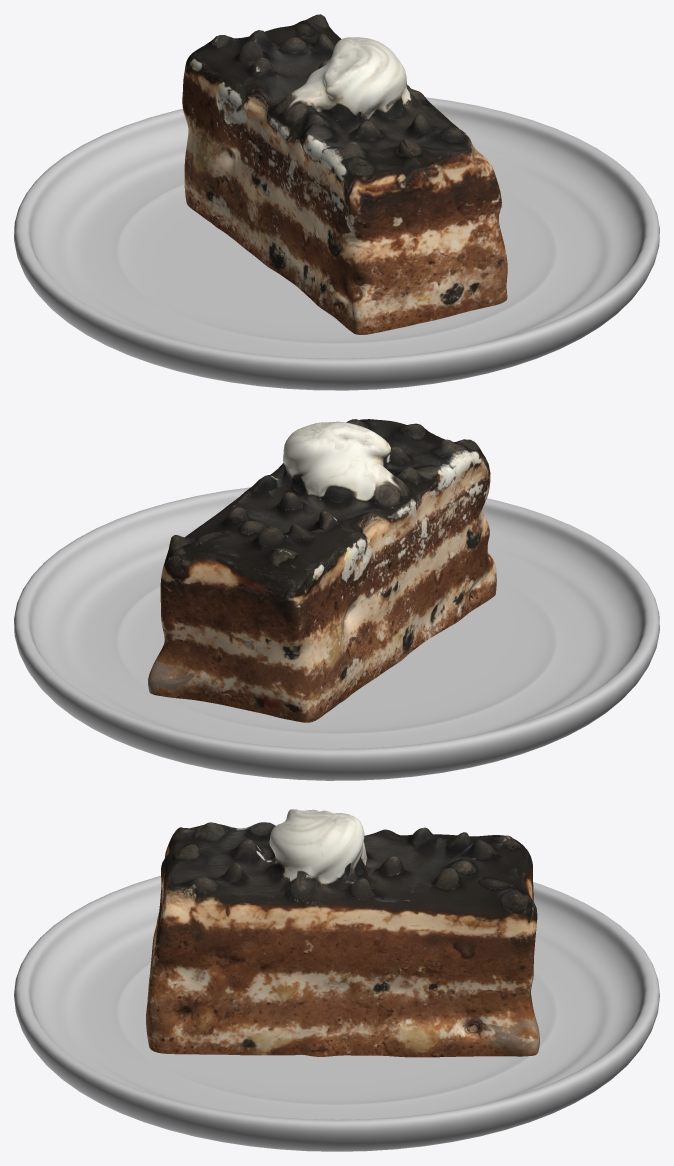
Rendered from postre.fbx.
3 views of the same model, one above another, from view 1: azimuth 30°, elevation 25°; view 2: azimuth 150°, elevation 25°; view 3: azimuth 270°, elevation 25° (orthographic).
Visible parts, largest first — view 1: Fried Noodle.002; view 2: Fried Noodle.002; view 3: Fried Noodle.002.
Part boxes in pixels (left/top/right/bottom): Fried Noodle.002: left=14, top=14, right=659, bottom=390; Fried Noodle.002: left=14, top=419, right=659, bottom=780; Fried Noodle.002: left=14, top=809, right=659, bottom=1151.
Size of the model in its own units: 21.41 by 8.59 by 21.41.
2 materials, 1 textured.
